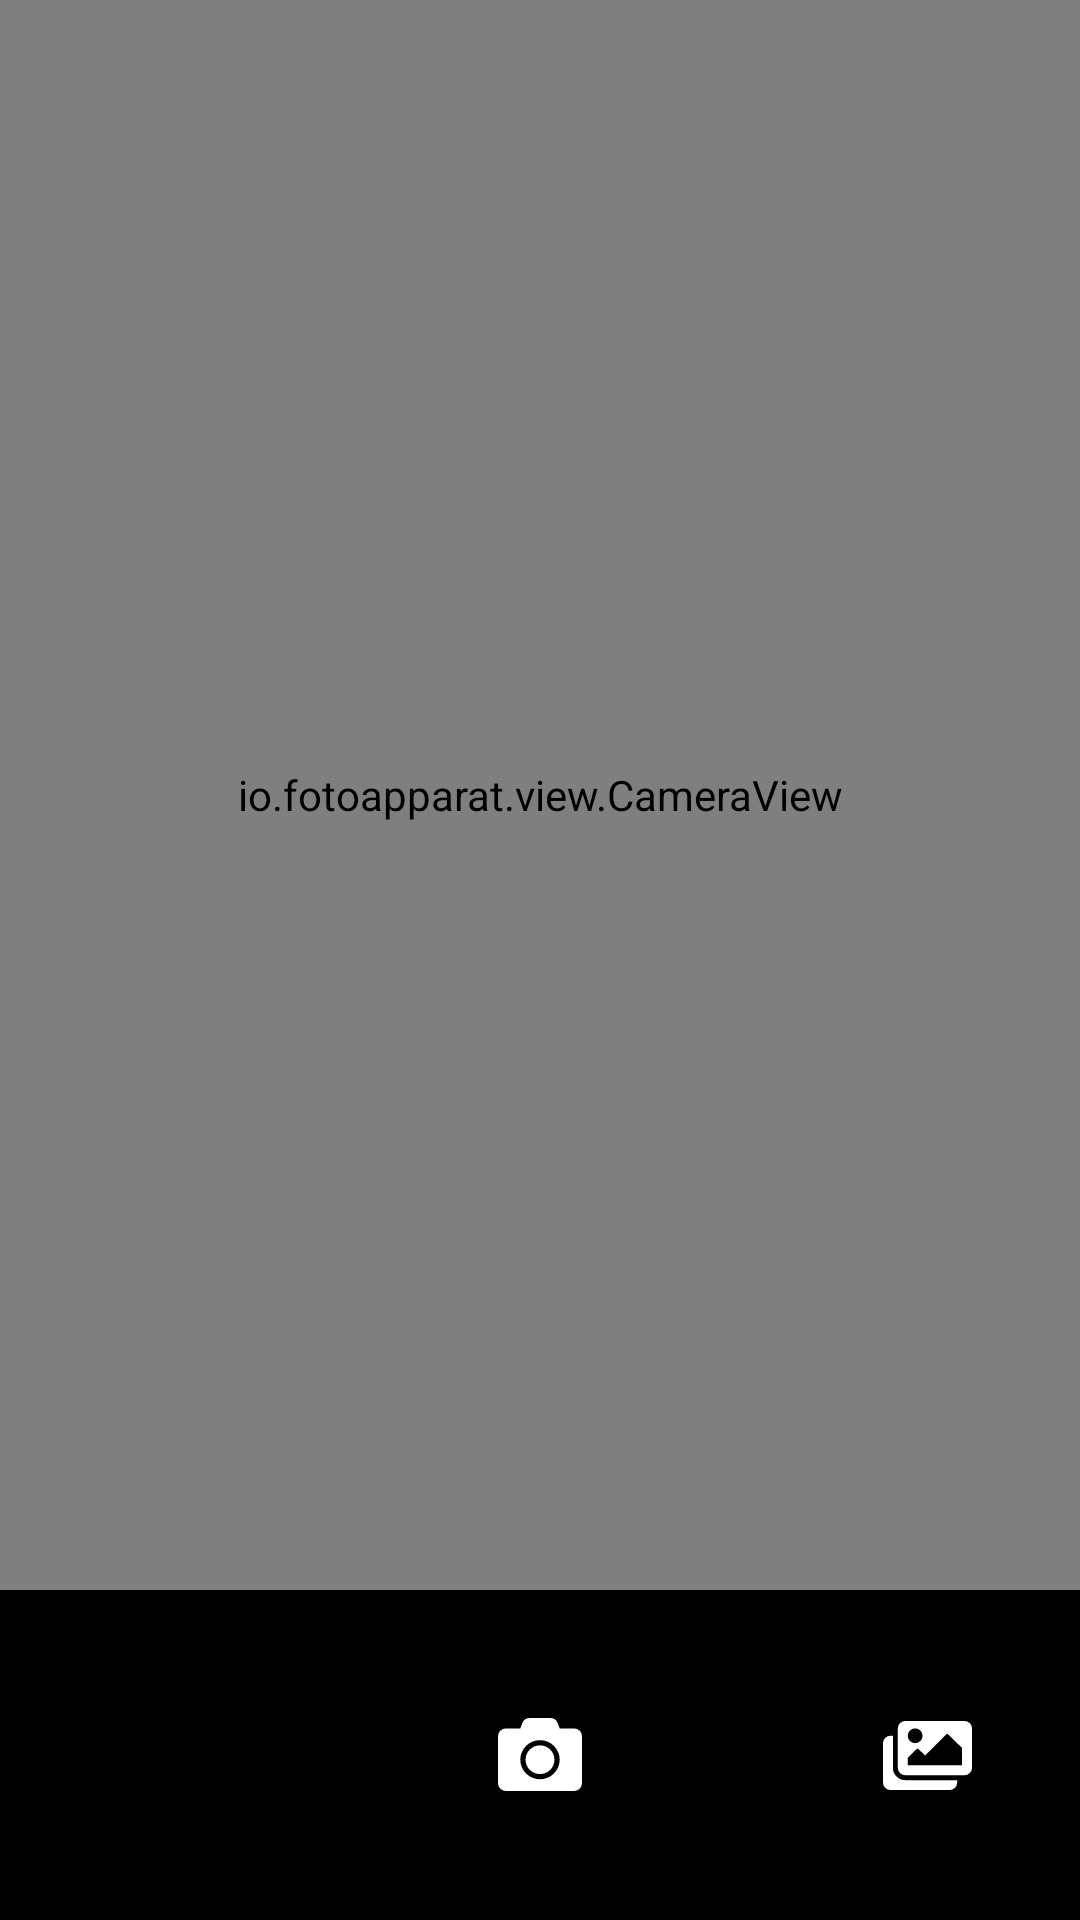

Icon click points for this 1080*1920 phone screenshot, format (x,y):
images: (927,1755)
